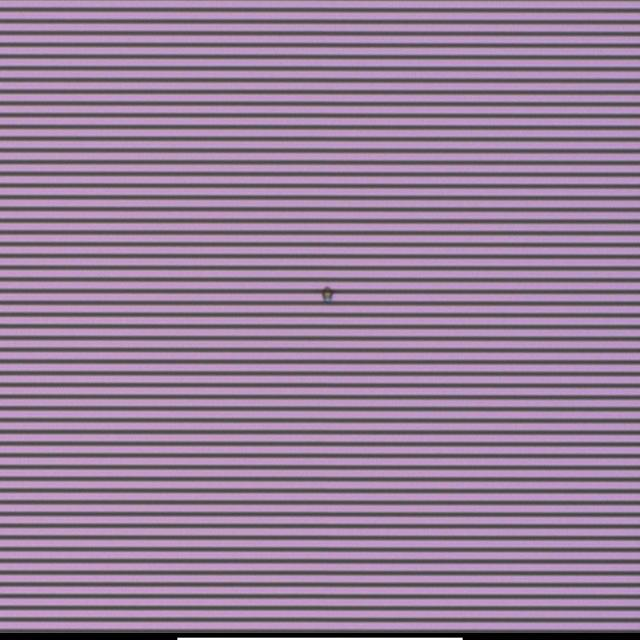03_intrusion: (315, 282, 339, 306)
